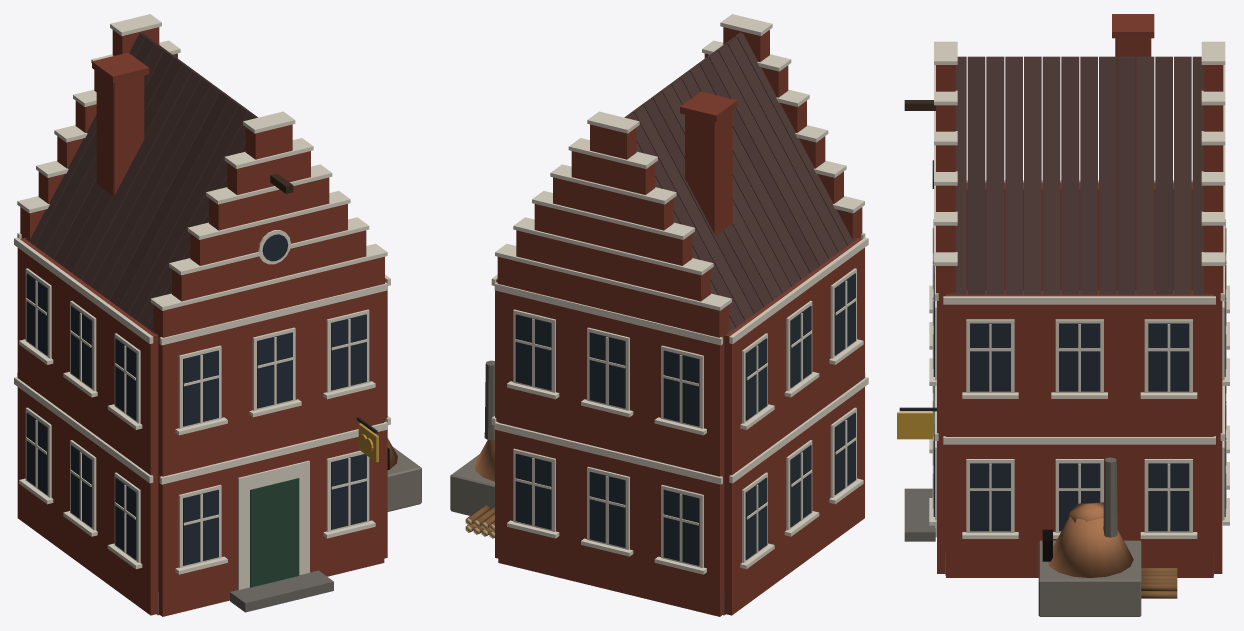
Rendered from bakery_3.glb.
The picture shows the model from 3 angles, left to right: view 1: azimuth 30°, elevation 25°; view 2: azimuth 150°, elevation 25°; view 3: azimuth 270°, elevation 25°; orthographic projection.
Parts seen in each view (by area): view 1: bakery3_brick, bakery3_tiles, bakery3_stone, bakery3_glass, bakery3_wood; view 2: bakery3_brick, bakery3_tiles, bakery3_stone, bakery3_glass, bakery3_wood, bakery3_log, bakery3_clay; view 3: bakery3_brick, bakery3_tiles, bakery3_stone, bakery3_glass, bakery3_wood, bakery3_clay, bakery3_log.
Part boxes in pixels (left/top/right/bottom): bakery3_brick: left=17, top=27, right=387, bottom=616; bakery3_tiles: left=26, top=32, right=257, bottom=334; bakery3_stone: left=14, top=14, right=421, bottom=615; bakery3_glass: left=26, top=234, right=366, bottom=565; bakery3_wood: left=25, top=173, right=378, bottom=587; bakery3_brick: left=495, top=27, right=864, bottom=616; bakery3_tiles: left=624, top=32, right=856, bottom=334; bakery3_stone: left=450, top=14, right=868, bottom=615; bakery3_glass: left=515, top=273, right=855, bottom=565; bakery3_wood: left=513, top=268, right=856, bottom=567; bakery3_log: left=465, top=505, right=494, bottom=538; bakery3_clay: left=474, top=440, right=494, bottom=481; bakery3_brick: left=936, top=14, right=1223, bottom=577; bakery3_tiles: left=949, top=56, right=1210, bottom=294; bakery3_stone: left=904, top=41, right=1229, bottom=616; bakery3_glass: left=932, top=160, right=1225, bottom=531; bakery3_wood: left=897, top=100, right=1226, bottom=532; bakery3_clay: left=1047, top=502, right=1133, bottom=577; bakery3_log: left=1141, top=568, right=1177, bottom=598.
Size of the model in its own units: 7.32 by 10.1 by 6.47.
